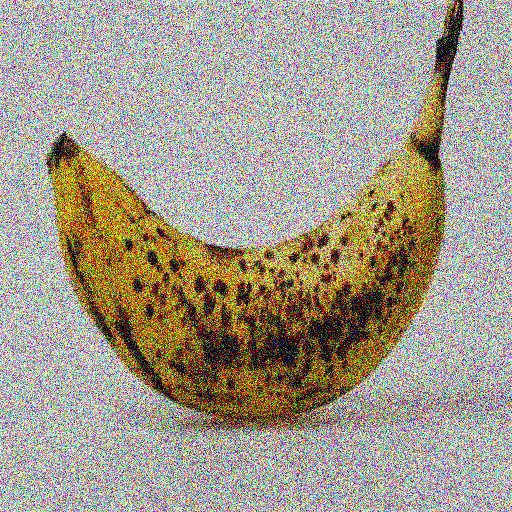fruit: (438, 0, 486, 2)
